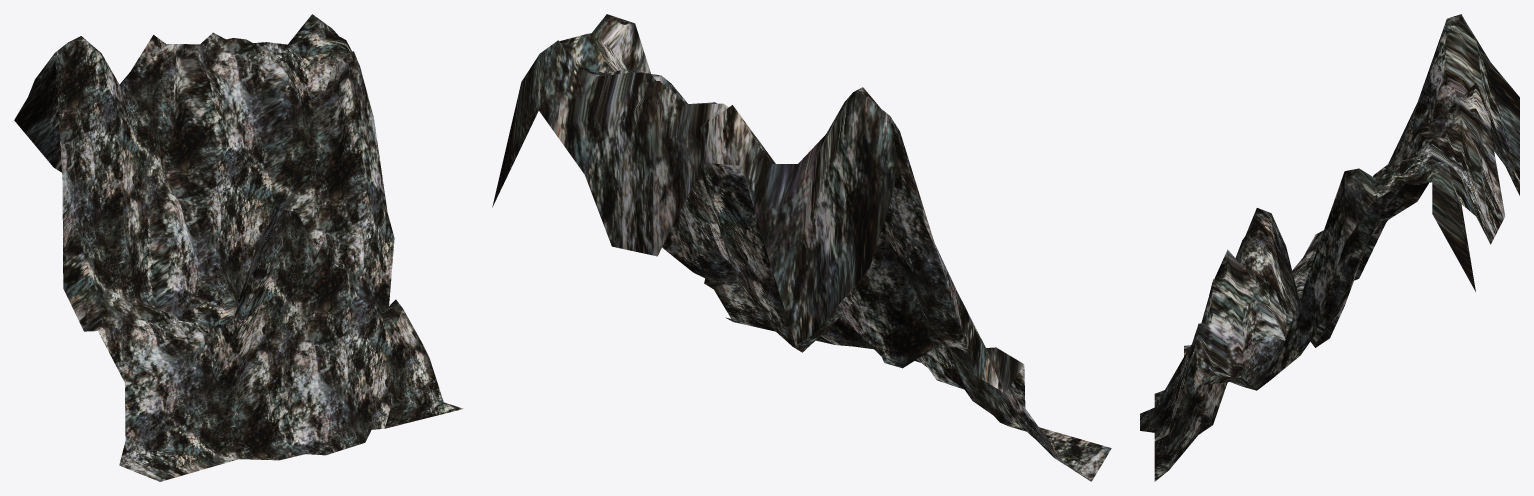
Rendered from OVERHILL_A_01_OBJECT12.fbx.
3 views of the same model, side by side, from view 1: azimuth 30°, elevation 25°; view 2: azimuth 150°, elevation 25°; view 3: azimuth 270°, elevation 25° (orthographic). The views are drawn at different scales.
Parts seen in each view (by area): view 1: OVERHILL_A_01_OBJECT12; view 2: OVERHILL_A_01_OBJECT12; view 3: OVERHILL_A_01_OBJECT12.
Part boxes in pixels (box(x1,y1,x2,y2)): OVERHILL_A_01_OBJECT12: box(14, 14, 463, 481); OVERHILL_A_01_OBJECT12: box(492, 14, 1111, 481); OVERHILL_A_01_OBJECT12: box(1140, 14, 1519, 481).
Bounding box in the file's own units: 328786 × 335443 × 324096.
Materials: 1 (1 with a texture image).
